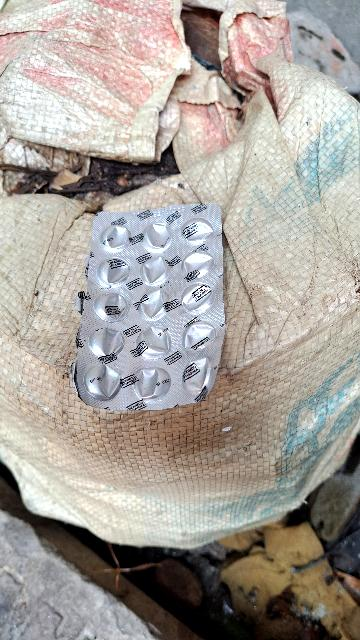medicine: (60, 184, 238, 424)
